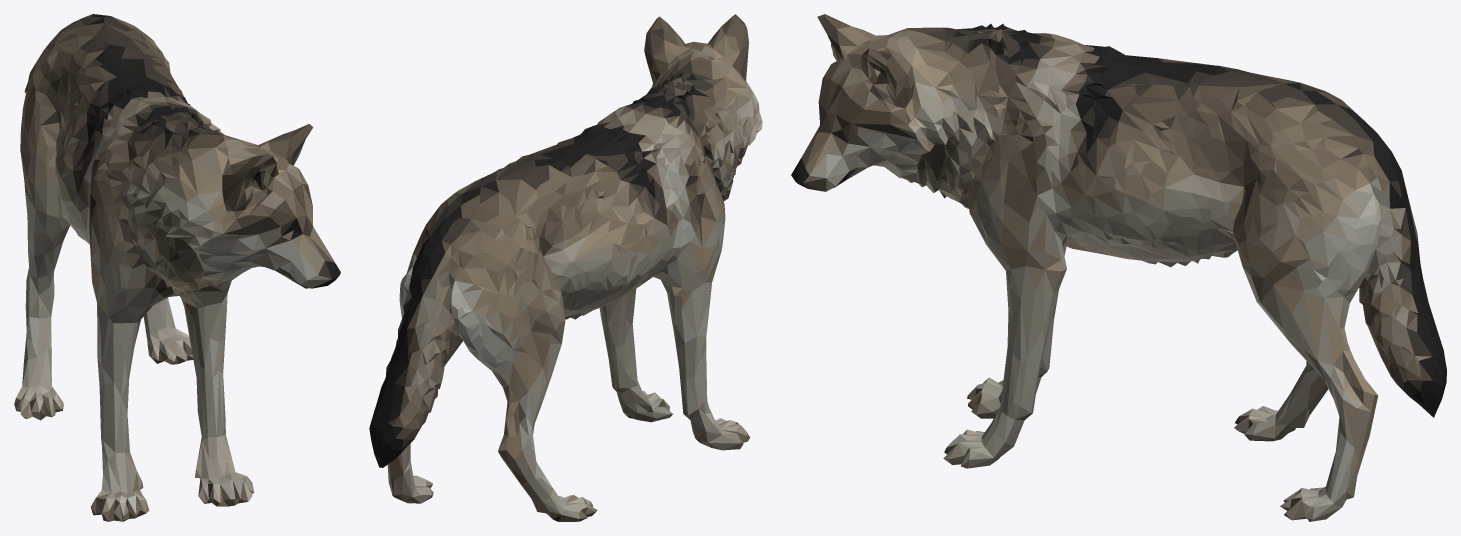
Rendered from canis_lupus.glb.
3 renders of one model, left to right at view 1: azimuth 30°, elevation 25°; view 2: azimuth 150°, elevation 25°; view 3: azimuth 270°, elevation 25°, orthographic. The views are drawn at different scales.
Parts seen in each view (by area): view 1: lod0; view 2: lod0; view 3: lod0.
Part boxes in pixels (box(x1,y1,x2,y2)): lod0: box(14, 14, 340, 521); lod0: box(369, 14, 762, 521); lod0: box(791, 14, 1446, 521).
Size of what is drawn, in the model's own units: 0.3977 by 0.6192 by 0.8576.
